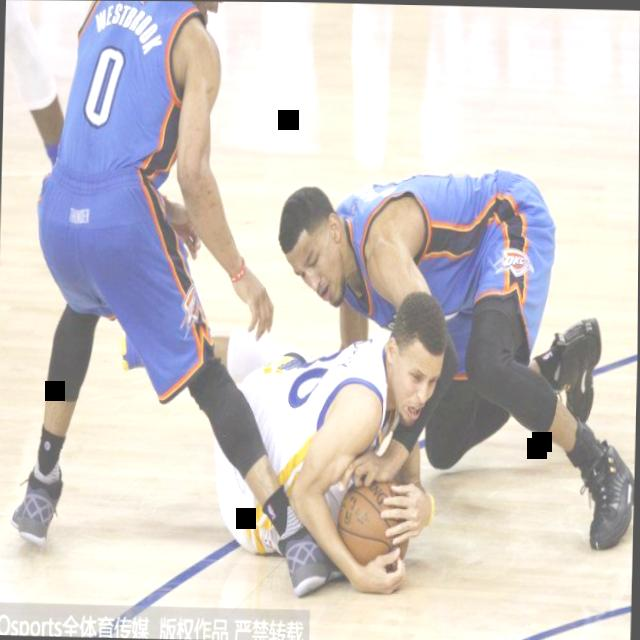Fall-Detected: (163, 290, 464, 605)
